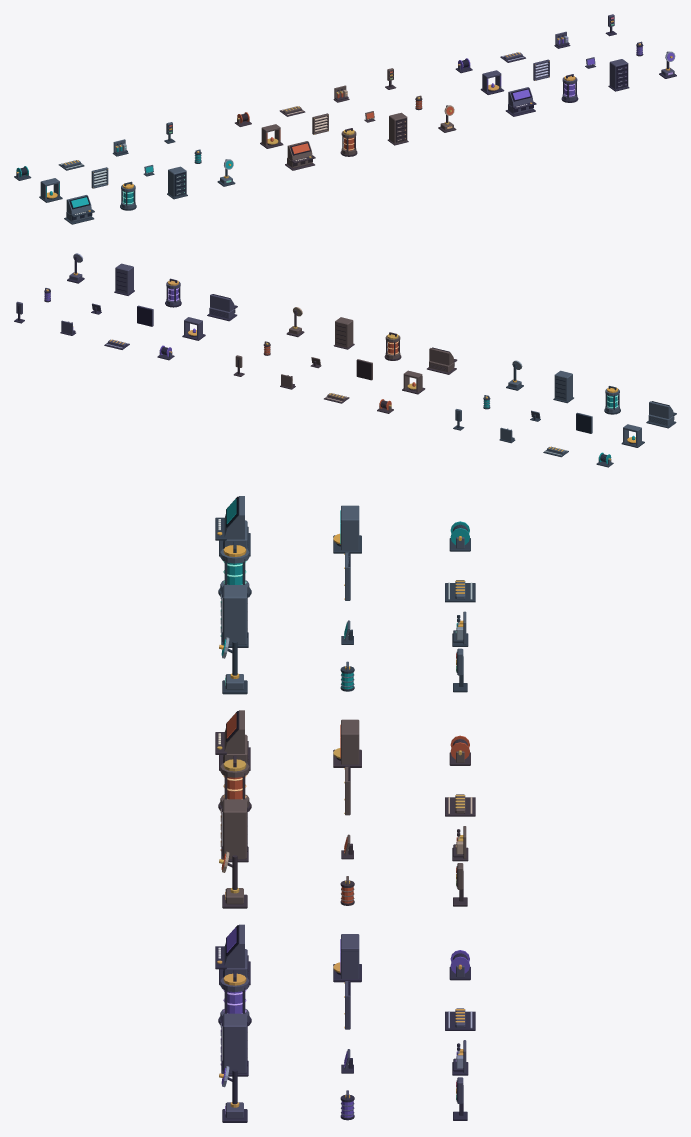
File: neon-relay-lab-native.glb
The picture shows the model from 3 angles, top to bottom: view 1: azimuth 30°, elevation 25°; view 2: azimuth 150°, elevation 25°; view 3: azimuth 270°, elevation 25°; orthographic projection. The views are drawn at different scales.
Parts seen in each view (by area): view 1: Classic__01_Command_Console__Body, Warm__01_Command_Console__Body, Twilight__01_Command_Console__Body, Twilight__03_Server_Tower__Body, Classic__03_Server_Tower__Body, Warm__03_Server_Tower__Body, Classic__02_Reactor_Cell__Body, Twilight__05_Specimen_Scanner__Body, Classic__05_Specimen_Scanner__Body, Warm__05_Specimen_Scanner__Body, Warm__02_Reactor_Cell__Body, Twilight__02_Reactor_Cell__Body (+1 smaller); view 2: Twilight__01_Command_Console__Body, Warm__01_Command_Console__Body, Classic__01_Command_Console__Body, Classic__03_Server_Tower__Body, Twilight__03_Server_Tower__Body, Warm__03_Server_Tower__Body, Twilight__02_Reactor_Cell__Body, Classic__02_Reactor_Cell__Body, Warm__02_Reactor_Cell__Body, Warm__05_Specimen_Scanner__Body, Classic__05_Specimen_Scanner__Body, Twilight__05_Specimen_Scanner__Body; view 3: Twilight__03_Server_Tower__Body, Warm__03_Server_Tower__Body, Classic__03_Server_Tower__Body, Classic__01_Command_Console__Body, Twilight__01_Command_Console__Body, Warm__01_Command_Console__Body, Classic__05_Specimen_Scanner__Body, Warm__05_Specimen_Scanner__Body, Twilight__05_Specimen_Scanner__Body, Warm__02_Reactor_Cell__Body, Twilight__02_Reactor_Cell__Body, Classic__02_Reactor_Cell__Body.
Part boxes in pixels (x1,y1,x2,y2): Classic__01_Command_Console__Body: (64,195,94,224); Warm__01_Command_Console__Body: (285,141,315,170); Twilight__01_Command_Console__Body: (505,87,536,116); Twilight__03_Server_Tower__Body: (608,59,629,91); Classic__03_Server_Tower__Body: (167,166,187,199); Warm__03_Server_Tower__Body: (387,112,408,145); Classic__02_Reactor_Cell__Body: (120,181,136,210); Twilight__05_Specimen_Scanner__Body: (480,70,504,94); Classic__05_Specimen_Scanner__Body: (39,178,62,202); Warm__05_Specimen_Scanner__Body: (260,124,283,148); Warm__02_Reactor_Cell__Body: (340,128,357,156); Twilight__02_Reactor_Cell__Body: (561,74,578,102); Twilight__01_Command_Console__Body: (207,294,237,321); Warm__01_Command_Console__Body: (427,347,457,374); Classic__01_Command_Console__Body: (646,401,676,428); Classic__03_Server_Tower__Body: (553,370,573,403); Twilight__03_Server_Tower__Body: (114,263,134,295); Warm__03_Server_Tower__Body: (333,317,354,349); Twilight__02_Reactor_Cell__Body: (165,278,181,307); Classic__02_Reactor_Cell__Body: (604,386,620,414); Warm__02_Reactor_Cell__Body: (384,332,401,360); Warm__05_Specimen_Scanner__Body: (402,370,425,394); Classic__05_Specimen_Scanner__Body: (621,424,644,447); Twilight__05_Specimen_Scanner__Body: (182,317,205,340); Twilight__03_Server_Tower__Body: (220,1013,248,1076); Warm__03_Server_Tower__Body: (220,799,248,862); Classic__03_Server_Tower__Body: (220,585,248,647); Classic__01_Command_Console__Body: (215,496,250,556); Twilight__01_Command_Console__Body: (215,924,250,985); Warm__01_Command_Console__Body: (215,710,250,770); Classic__05_Specimen_Scanner__Body: (333,505,361,553); Warm__05_Specimen_Scanner__Body: (333,719,361,767); Twilight__05_Specimen_Scanner__Body: (333,934,361,982); Warm__02_Reactor_Cell__Body: (218,755,251,811); Twilight__02_Reactor_Cell__Body: (218,970,251,1025); Classic__02_Reactor_Cell__Body: (218,541,251,597).
Size of the model in its own units: 98.83 by 3.96 by 18.5.
3 materials, 3 textured.
